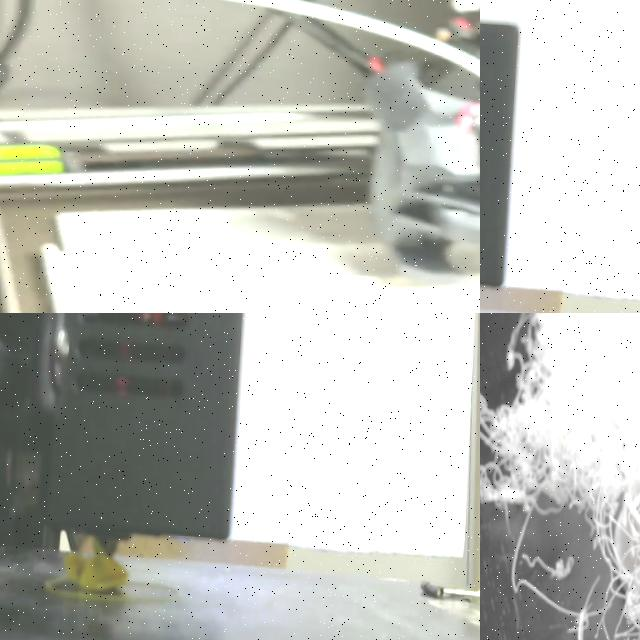spaghetti: (480, 313, 640, 640), (65, 542, 145, 600)
